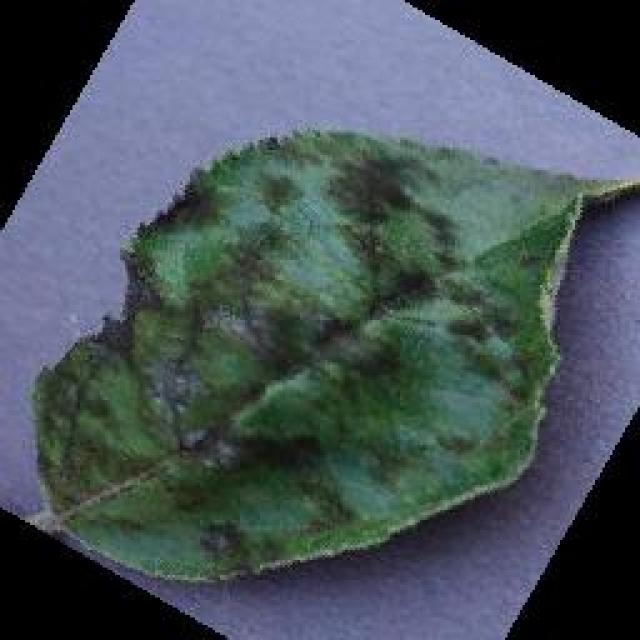apple scab disease: (25, 122, 630, 582)
